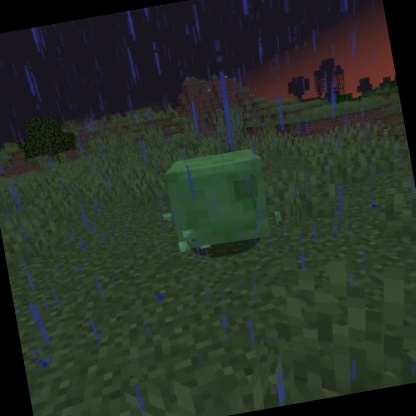slime: (156, 142, 282, 260)
